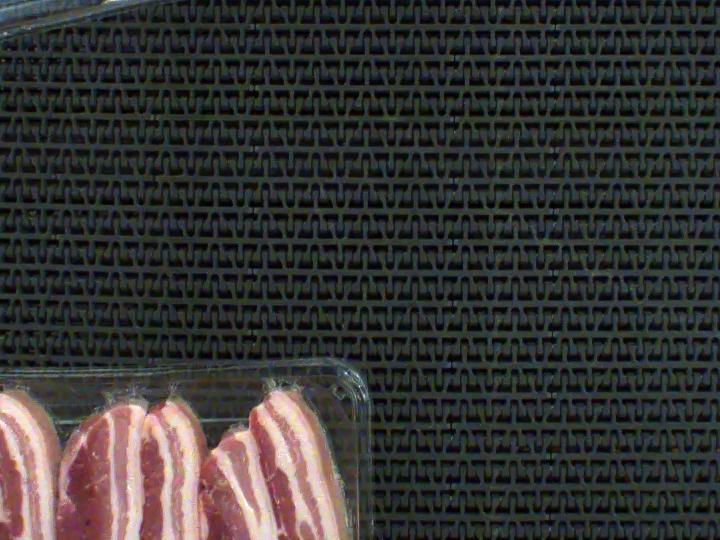packaging-error: (0, 343, 341, 444)
